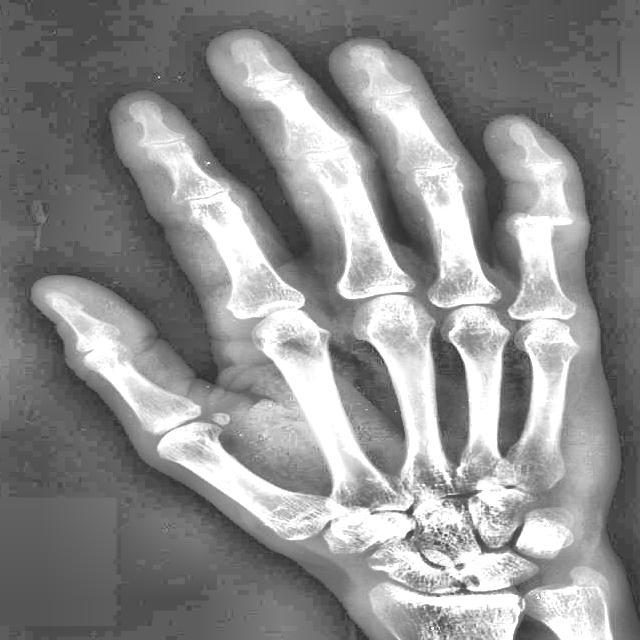fracture: (519, 212, 560, 228)
